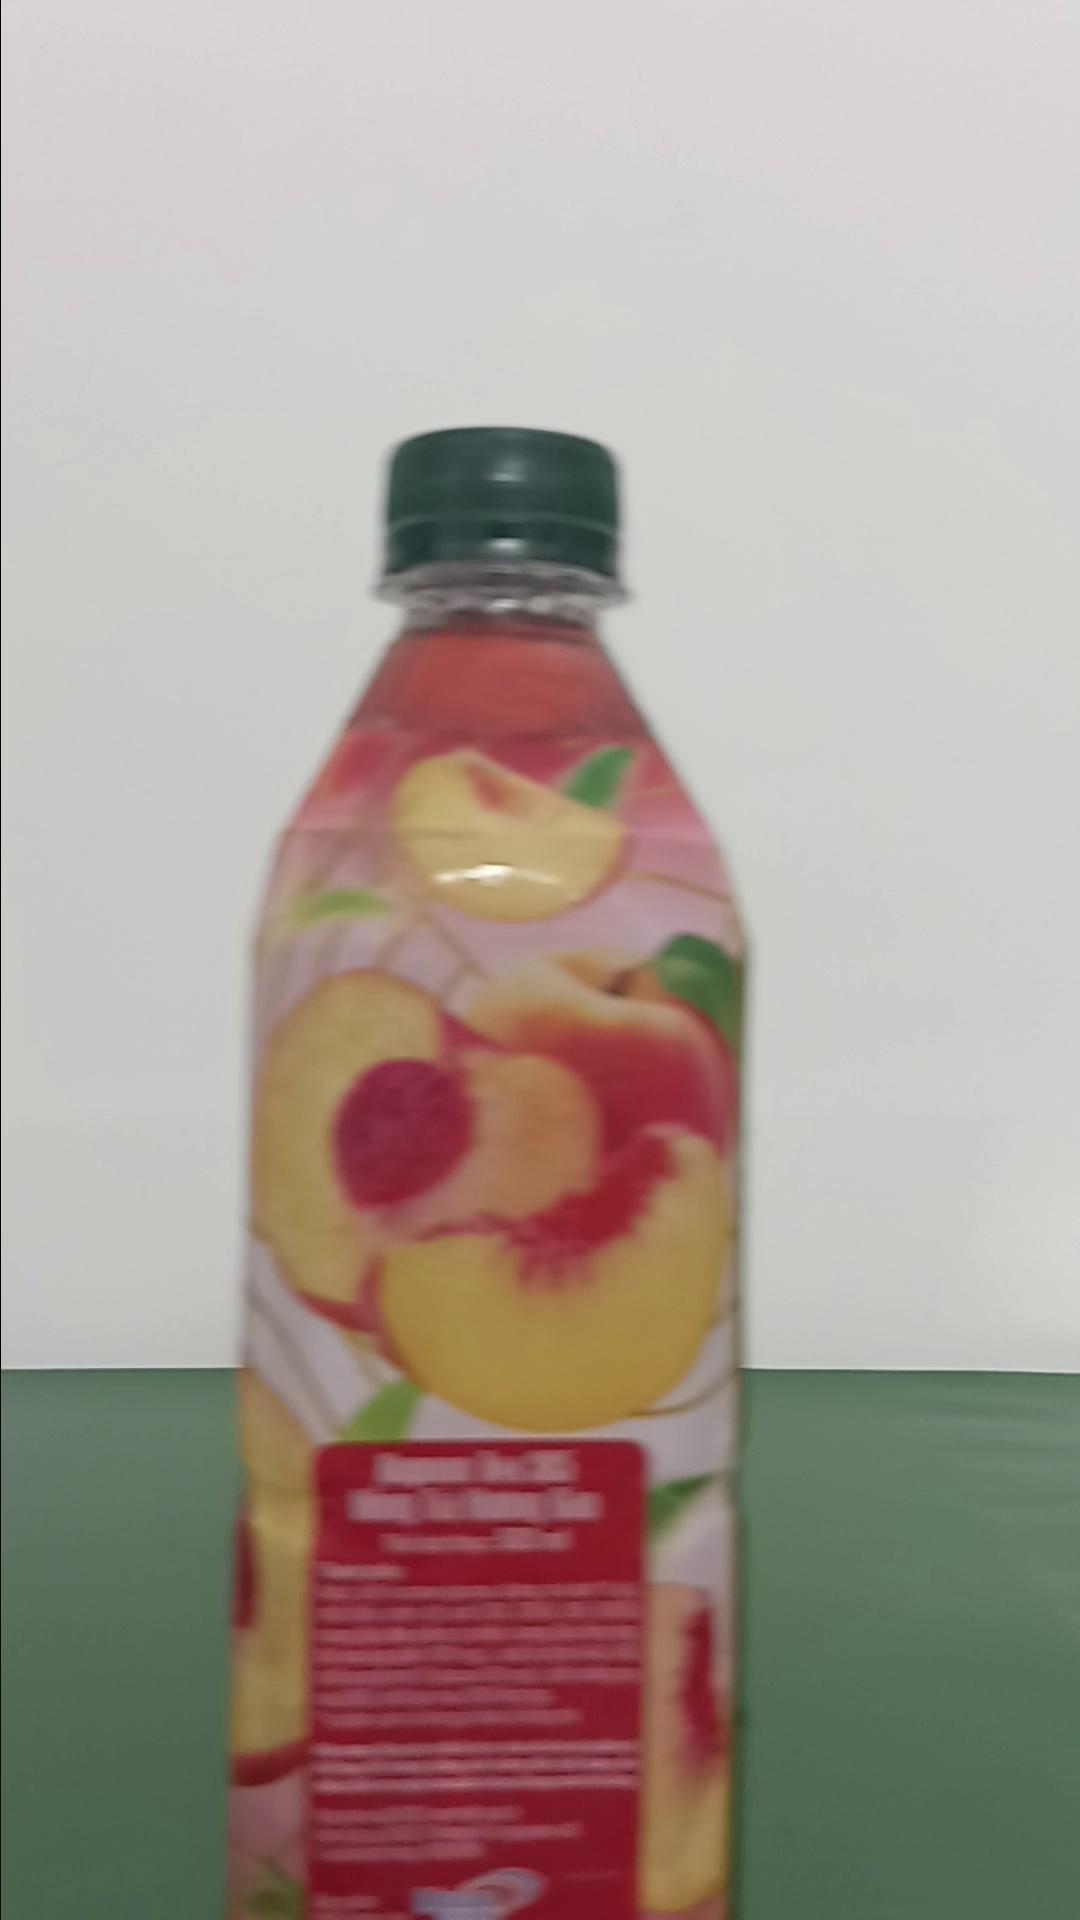khong loi: (227, 423, 750, 1913)
